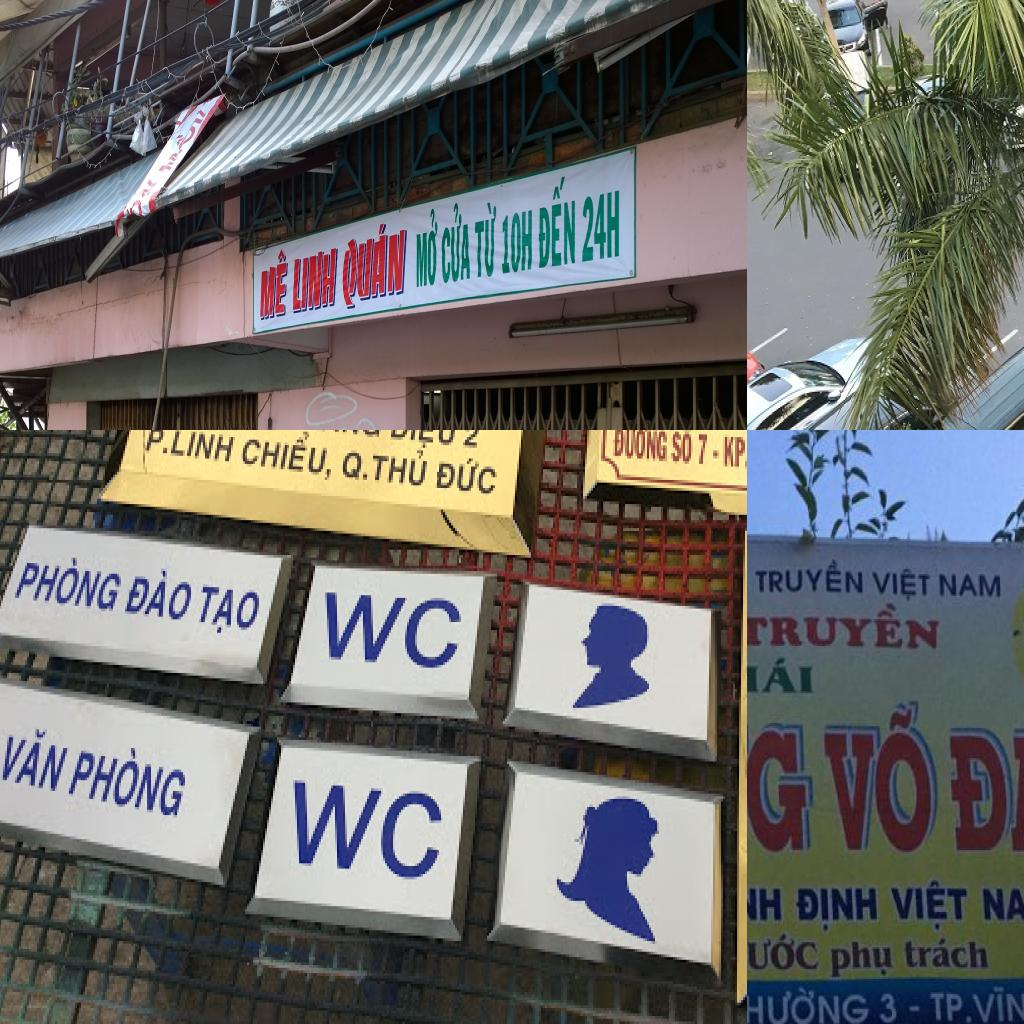text: (819, 705, 940, 860), (291, 772, 453, 885), (317, 579, 469, 686), (942, 721, 1024, 883), (747, 599, 947, 661), (63, 732, 193, 826), (747, 719, 819, 858), (9, 544, 127, 622), (0, 716, 75, 799), (341, 218, 407, 308), (237, 430, 335, 487), (121, 560, 199, 630), (751, 556, 867, 602), (747, 982, 870, 1024), (792, 878, 880, 934), (195, 576, 267, 644), (890, 878, 971, 930), (902, 932, 994, 977), (537, 172, 577, 271), (747, 654, 820, 701), (747, 932, 823, 977), (431, 456, 501, 501), (373, 442, 433, 494), (932, 564, 1006, 606), (828, 939, 897, 984), (292, 246, 338, 312), (582, 188, 620, 264), (167, 430, 241, 469), (440, 199, 472, 286), (870, 564, 934, 606), (967, 982, 1024, 1024), (501, 207, 533, 275), (611, 430, 671, 466), (260, 247, 289, 320), (979, 882, 1024, 929), (747, 875, 786, 927), (474, 200, 498, 280), (927, 985, 976, 1024), (389, 430, 461, 456), (416, 207, 438, 289), (341, 442, 371, 486), (875, 989, 905, 1024), (671, 430, 699, 466), (723, 432, 747, 472), (143, 430, 177, 458), (157, 149, 184, 174), (461, 430, 485, 456), (697, 430, 713, 466), (907, 1001, 926, 1017), (711, 448, 721, 461)
